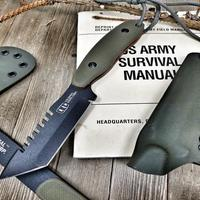knife: (1, 20, 153, 182)
